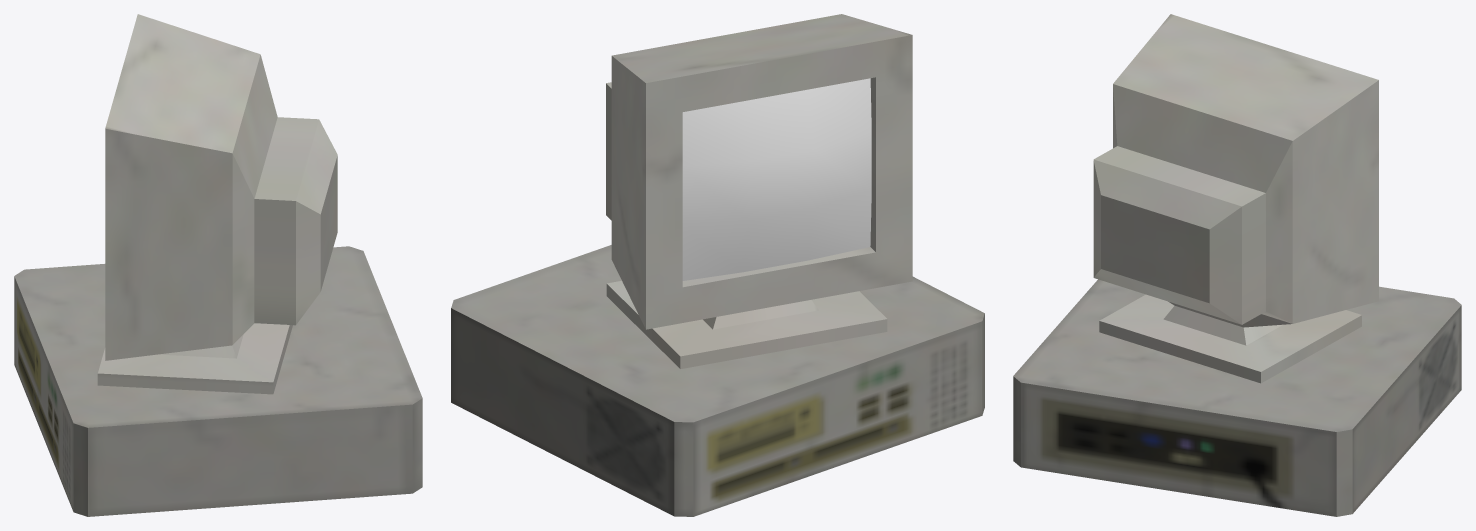
The model's file is computer.glb.
3 views of the same model, side by side, from view 1: azimuth 30°, elevation 25°; view 2: azimuth 150°, elevation 25°; view 3: azimuth 270°, elevation 25° (orthographic). The views are drawn at different scales.
Visible parts, largest first — view 1: Computer; view 2: Computer; view 3: Computer.
Boxes of the visible parts, x1,y1,x2,y2 form: Computer: (14,14,422,516); Computer: (451,14,984,516); Computer: (1013,14,1461,516).
Size of the model in its own units: 0.5711 by 0.4976 by 0.591.
2 materials, 1 textured.
